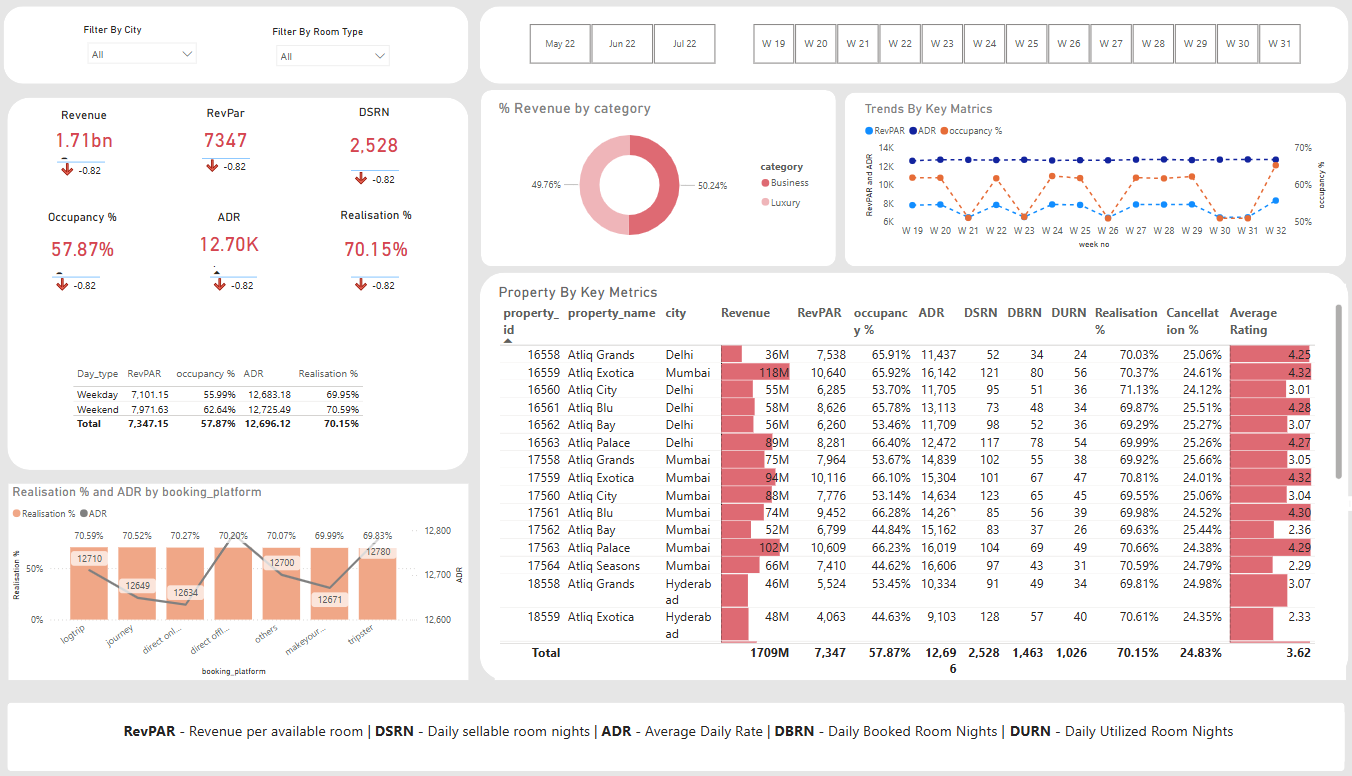

What the dashboard file says about the page in this screenshot:
{"tool":"powerbi","page":{"name":"Page 1","canvas":[1800,1100],"ordinal":0},"visuals":[{"type":"shape","box":[34.3,977.8,1749.6,89.9],"z":0},{"type":"shape","box":[34.3,186.4,603.4,487.3],"z":1000},{"type":"tableEx","fields":{"Values":["key_measures.\"Revenue WoW change %"]},"box":[93.8,237.5,74.7,86.8],"z":2000},{"type":"tableEx","fields":{"Values":["dim_date.day_type","key_measures.RevPAR","key_measures.occupancy %","key_measures.ADR","key_measures.Realisation %"]},"box":[114.5,533.1,402.3,121],"z":3000},{"type":"card","title":"Revenue","fields":{"Values":["key_measures.REVENUE"]},"box":[67.7,199.3,135.4,66],"z":4000},{"type":"tableEx","fields":{"Values":["key_measures.\"Revenue WoW change %"]},"box":[283,232.6,74.7,74.7],"z":5000},{"type":"card","title":"RevPar","fields":{"Values":["key_measures.RevPAR"]},"box":[230.9,197.9,178.8,67.7],"z":6000},{"type":"tableEx","fields":{"Values":["key_measures.\"Revenue WoW change %"]},"box":[477.4,248.3,74.7,81.6],"z":7000},{"type":"tableEx","fields":{"Values":["key_measures.\"Revenue WoW change %"]},"box":[86.8,387.2,74.7,81.6],"z":8000},{"type":"card","title":"Occupancy %","fields":{"Values":["key_measures.occupancy %"]},"box":[43.4,333,177.1,81.6],"z":9000},{"type":"tableEx","fields":{"Values":["key_measures.\"Revenue WoW change %"]},"box":[292.7,387.5,75.2,81.8],"z":10000},{"type":"card","title":"ADR","fields":{"Values":["key_measures.ADR"]},"box":[256.9,333.3,135.4,67.7],"z":11000},{"type":"tableEx","fields":{"Values":["key_measures.\"Revenue WoW change %"]},"box":[477.5,387.5,75.2,81.8],"z":12000},{"type":"card","title":"Realisation %","fields":{"Values":["key_measures.Realisation %"]},"box":[428.8,329.9,177.1,88.5],"z":13000},{"type":"card","title":"DSRN","fields":{"Values":["key_measures.DSRN"]},"box":[425.1,196.2,178.2,83.4],"z":14000},{"type":"shape","box":[29.4,67,608.3,101.4],"z":15000},{"type":"slicer","title":"Filter By City","fields":{"Values":["dim_hotel.city"]},"box":[128.5,90.3,163.2,74.7],"z":16000},{"type":"slicer","title":"Filter By Room Type","fields":{"Values":["dim_rooms.room_class"]},"box":[376.7,93.8,168.4,71.2],"z":17000},{"type":"lineStackedColumnComboChart","fields":{"Category":["fact_bookings.booking_platform"],"Y":["key_measures.Realisation %"],"Y2":["key_measures.ADR"]},"box":[36,691.7,601.7,256.7],"z":18000},{"type":"shape","box":[652.4,67,1136.4,101.4],"z":19000},{"type":"slicer","fields":{"Values":["dim_date.week no"]},"box":[984.4,83.4,765.3,65.4],"z":20000},{"type":"slicer","fields":{"Values":["dim_date.mmm yy"]},"box":[691.7,83.4,292.7,65.4],"z":21000},{"type":"shape","box":[654.1,176.6,464.4,230.6],"z":22000},{"type":"donutChart","title":"% Revenue by category","fields":{"Category":["dim_hotel.category"],"Y":["key_measures.occupancy %"]},"box":[672.1,189.7,426.8,201.1],"z":23000},{"type":"shape","box":[1129.9,179.9,655.7,227.3],"z":24000},{"type":"lineChart","title":"Trends By Key Matrics","fields":{"Category":["dim_date.mmm yy.Variation.Date Hierarchy.Month","dim_date.week no"],"Y":["key_measures.RevPAR","key_measures.ADR"],"Y2":["key_measures.occupancy %"]},"box":[1151.2,191.3,613.2,197.9],"z":25000},{"type":"tableEx","fields":{"Values":["dim_date.week no"]},"box":[1784.4,708.5,15.6,19.1],"z":26000},{"type":"shape","box":[652.4,415.3,1136.4,533.1],"z":27000},{"type":"tableEx","title":"Property By Key Metrics","fields":{"Values":["dim_hotel.property_id","dim_hotel.property_name","dim_hotel.city","key_measures.REVENUE","key_measures.RevPAR","key_measures.occupancy %","key_measures.ADR","key_measures.DSRN","key_measures.DBRN","key_measures.DURN","key_measures.Realisation %","key_measures.Cancellation %"]},"box":[672.1,430.1,1113.6,518.4],"z":28000},{"type":"tableEx","fields":{"Values":["dim_date.week no"]},"box":[1267,727.6,12.2,12.2],"z":29000},{"type":"textbox","box":[181.5,990.9,1602.5,63.8],"z":30000}]}

Visuals, with their boxes on the page's 1800x1100 design canvas (x1, y1, x2, y2). These are canvas units, not pixel positions in the 1352x776 screenshot, which may show the page scaled, cropped or inside an application window:
shape: detection(34, 978, 1784, 1068)
shape: detection(34, 186, 638, 674)
tableEx - key_measures."Revenue WoW change %: detection(94, 238, 168, 324)
tableEx - dim_date.day_type x key_measures.RevPAR: detection(114, 533, 517, 654)
"Revenue" card: detection(68, 199, 203, 265)
tableEx - key_measures."Revenue WoW change %: detection(283, 233, 358, 307)
"RevPar" card: detection(231, 198, 410, 266)
tableEx - key_measures."Revenue WoW change %: detection(477, 248, 552, 330)
tableEx - key_measures."Revenue WoW change %: detection(87, 387, 162, 469)
"Occupancy %" card: detection(43, 333, 220, 415)
tableEx - key_measures."Revenue WoW change %: detection(293, 388, 368, 469)
"ADR" card: detection(257, 333, 392, 401)
tableEx - key_measures."Revenue WoW change %: detection(478, 388, 553, 469)
"Realisation %" card: detection(429, 330, 606, 418)
"DSRN" card: detection(425, 196, 603, 280)
shape: detection(29, 67, 638, 168)
"Filter By City" slicer: detection(128, 90, 292, 165)
"Filter By Room Type" slicer: detection(377, 94, 545, 165)
lineStackedColumnComboChart - fact_bookings.booking_platform x key_measures.Realisation %: detection(36, 692, 638, 948)
shape: detection(652, 67, 1789, 168)
slicer - dim_date.week no: detection(984, 83, 1750, 149)
slicer - dim_date.mmm yy: detection(692, 83, 984, 149)
shape: detection(654, 177, 1118, 407)
"% Revenue by category" donutChart: detection(672, 190, 1099, 391)
shape: detection(1130, 180, 1786, 407)
"Trends By Key Matrics" lineChart: detection(1151, 191, 1764, 389)
tableEx - dim_date.week no: detection(1784, 708, 1800, 728)
shape: detection(652, 415, 1789, 948)
"Property By Key Metrics" tableEx: detection(672, 430, 1786, 948)
tableEx - dim_date.week no: detection(1267, 728, 1279, 740)
textbox: detection(182, 991, 1784, 1055)
